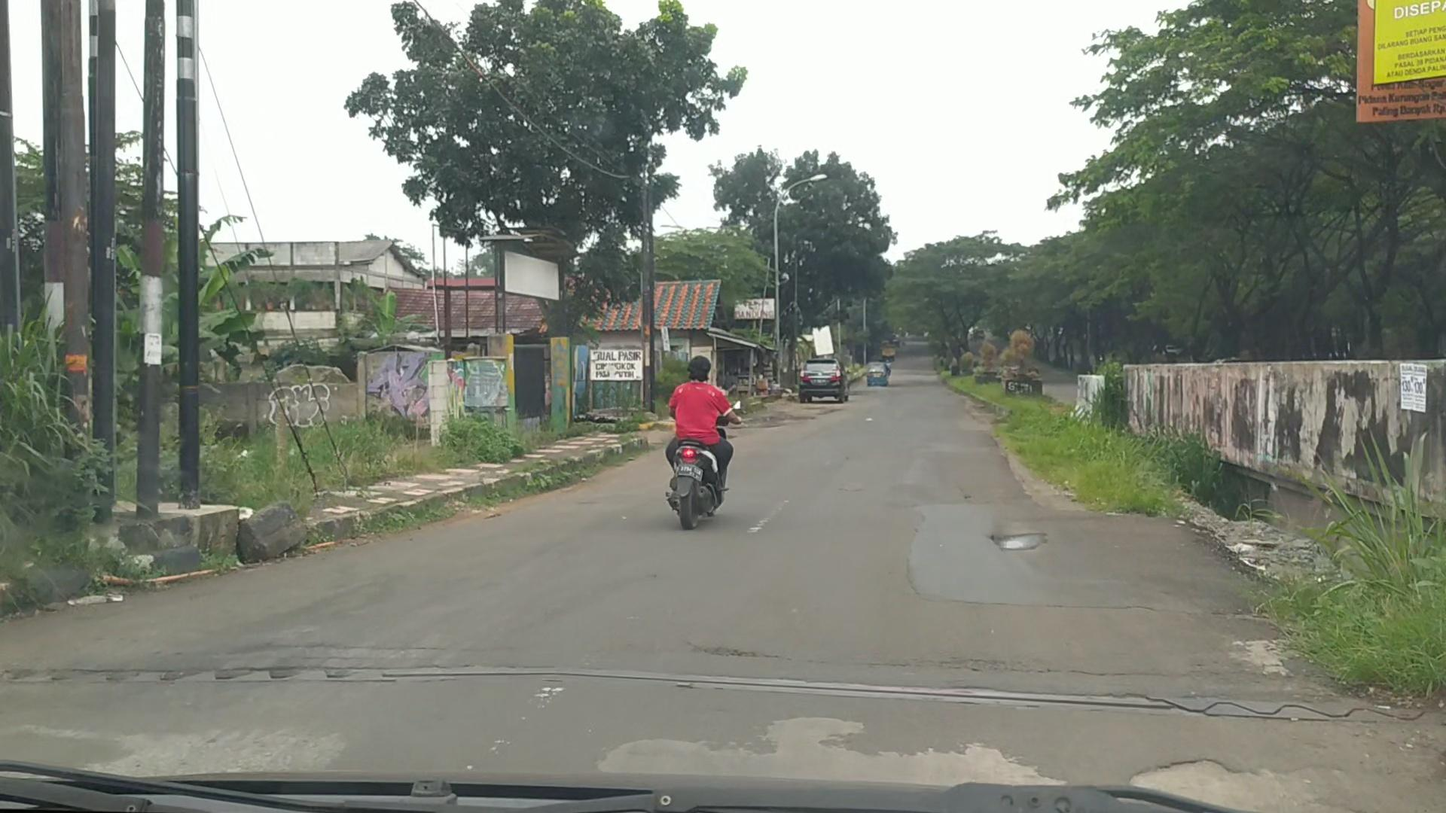pothole: (989, 527, 1043, 548)
